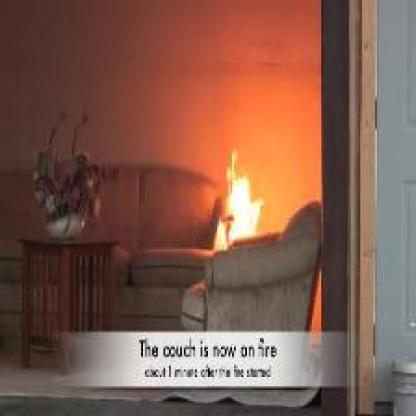fire: (208, 144, 276, 275)
